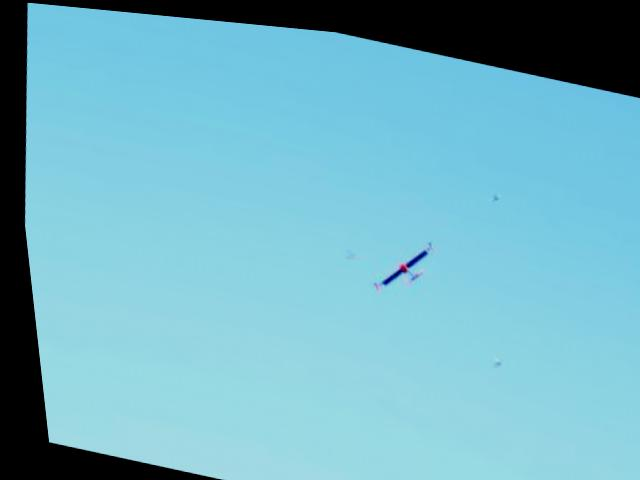uav: (354, 211, 440, 305)
